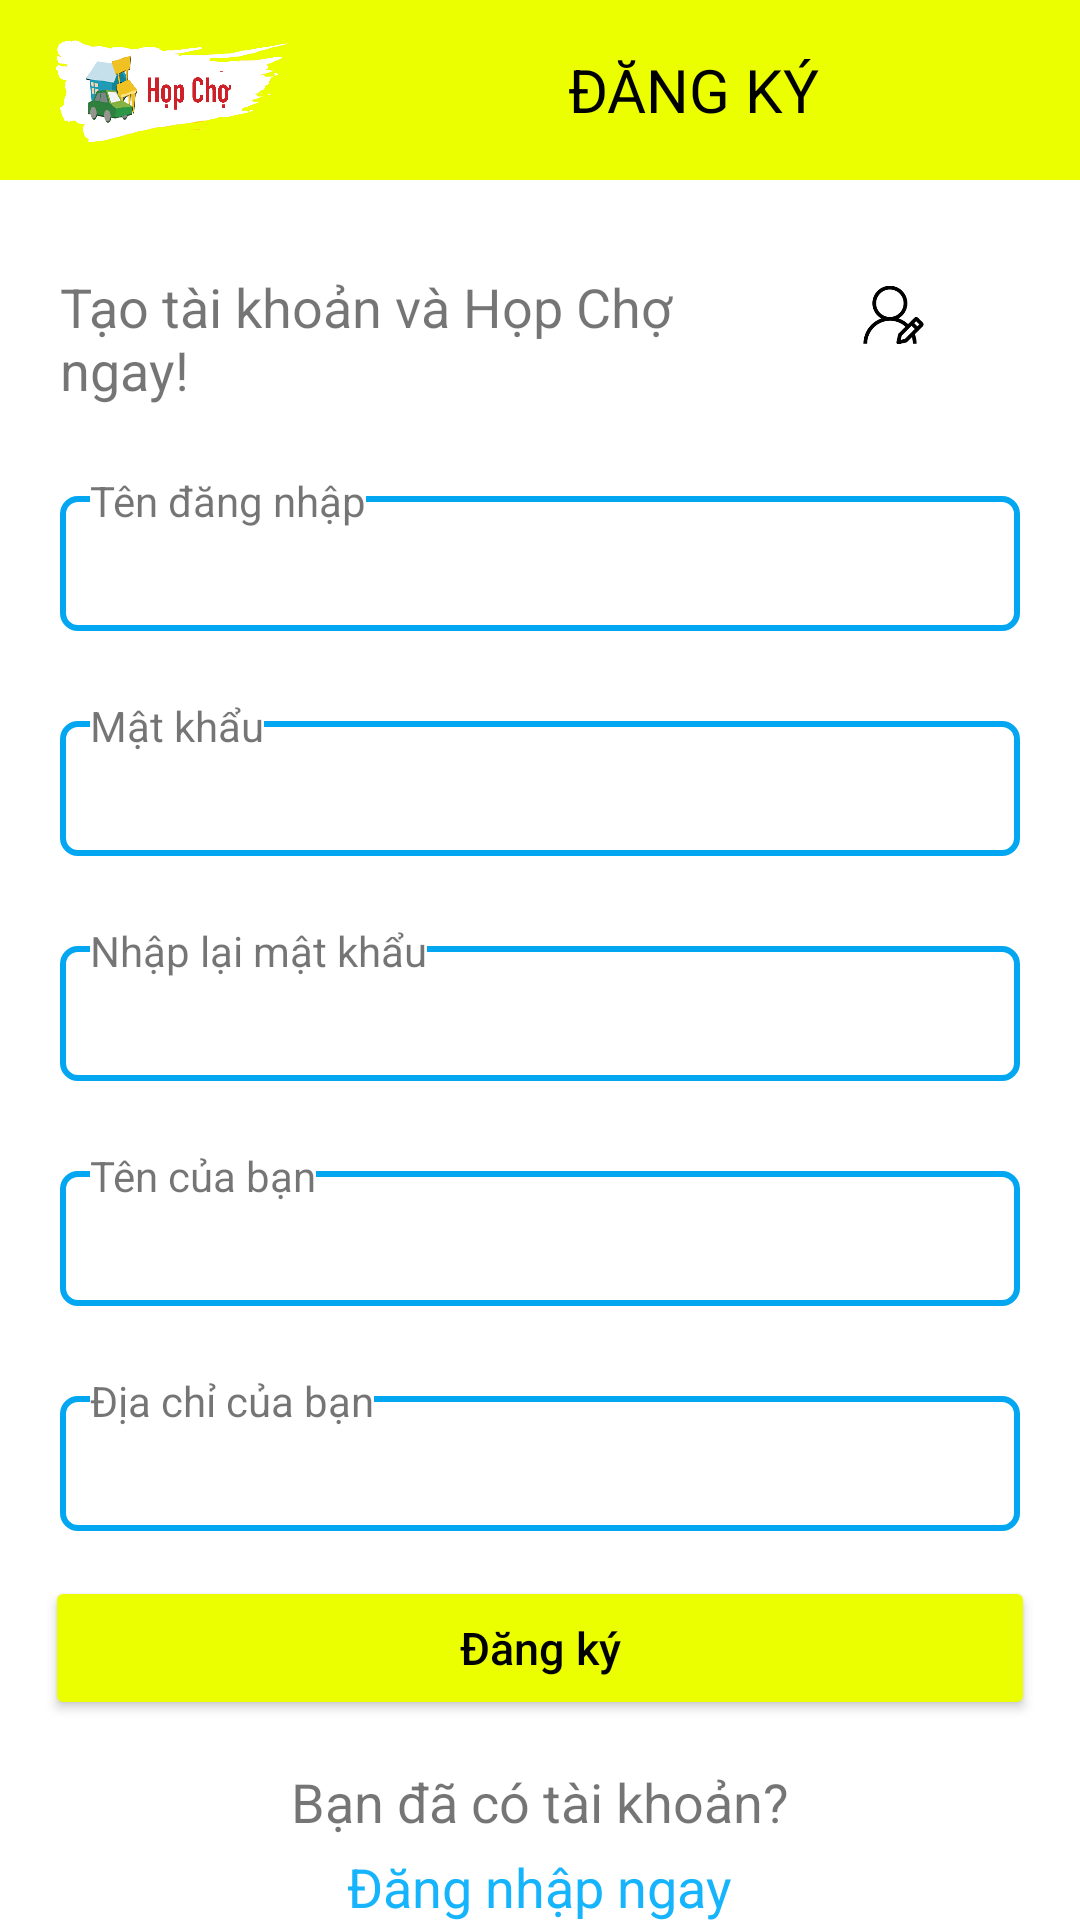

Icons on this 1080×1920 Android screen, each with its box as (x1, y1, x2, y2):
editable user: (863, 286, 924, 344)
